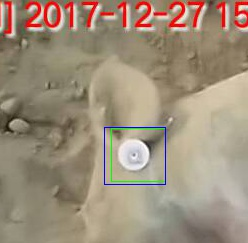text: (111, 128, 165, 181)
